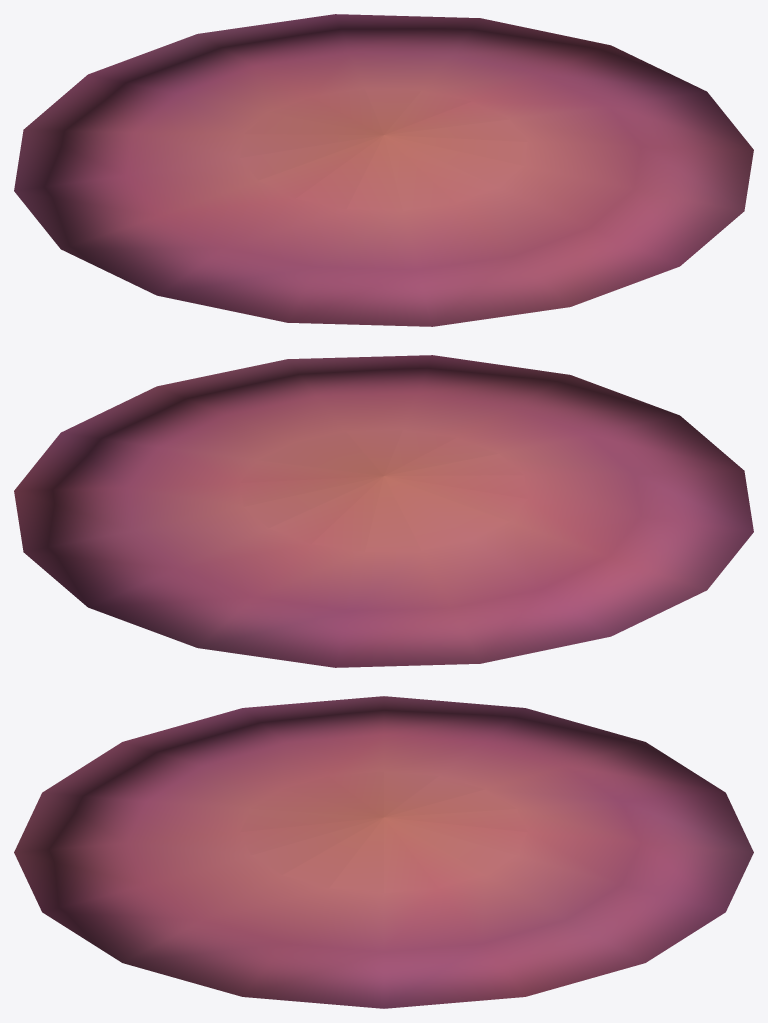
The model's file is space-galaxies-galaxy_v21.glb.
3 renders of one model, top to bottom at view 1: azimuth 30°, elevation 25°; view 2: azimuth 150°, elevation 25°; view 3: azimuth 270°, elevation 25°, orthographic.
Visible parts, largest first — view 1: Galaxy_v21; view 2: Galaxy_v21; view 3: Galaxy_v21.
Part boxes in pixels (x1,y1,x2,y2): Galaxy_v21: (14,14,753,326); Galaxy_v21: (14,355,753,667); Galaxy_v21: (14,696,753,1008).
Bounding box in the file's own units: 0.5 × 0.0436 × 0.5.
